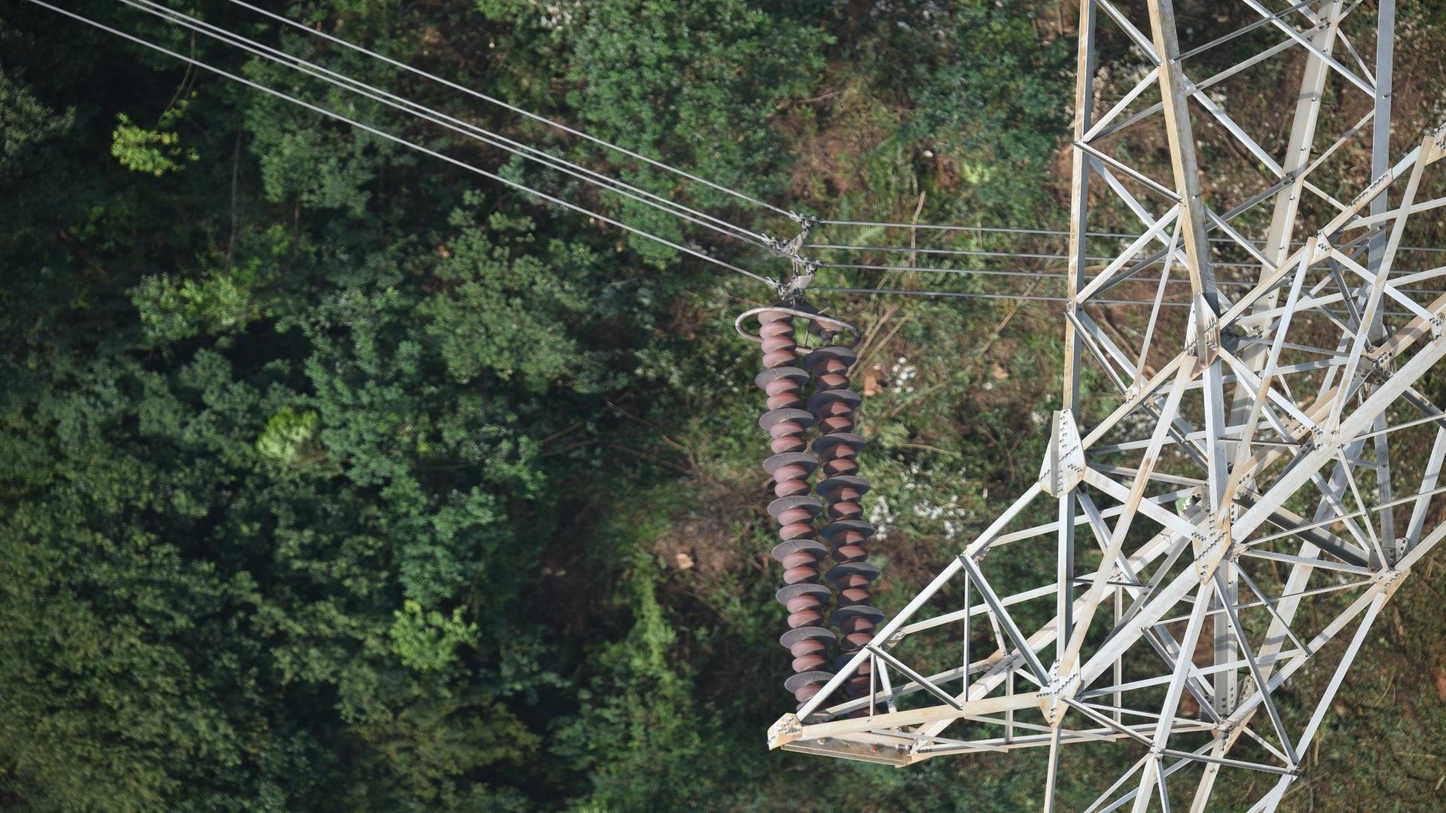insulator: (752, 303, 840, 701), (804, 312, 878, 682)
insulator_stringdrop: (804, 317, 856, 365)
